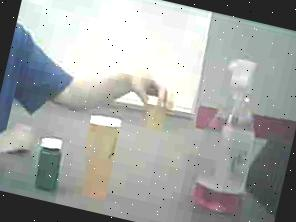Bottle A: (70, 111, 132, 210)
Bottle B: (133, 85, 178, 139)
Bottle C: (26, 130, 72, 196)
hazard: (188, 50, 284, 221)
